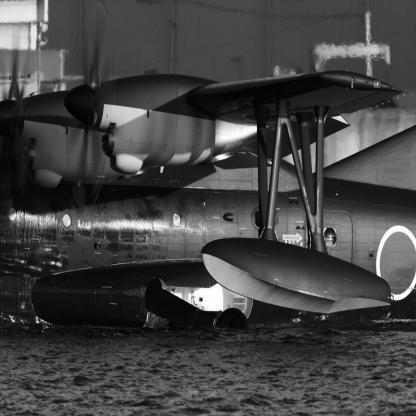US2: (1, 2, 416, 333)
